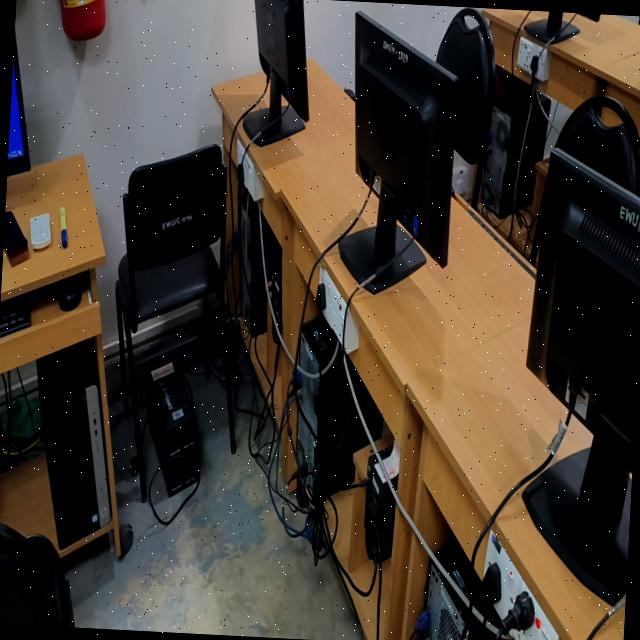Chair: (115, 144, 226, 493), (436, 8, 495, 207), (556, 97, 640, 196), (0, 523, 75, 628)
Cpu: (38, 341, 109, 549), (296, 315, 369, 504), (424, 536, 513, 640), (483, 87, 551, 217), (239, 191, 281, 337), (345, 358, 382, 440)
Fire Extinguisher: (60, 0, 106, 41)
Keyboard: (0, 295, 30, 337)
Monitor: (523, 150, 640, 601), (339, 12, 459, 293), (243, 0, 309, 145), (7, 29, 30, 176), (546, 12, 562, 38)
Mouse: (59, 276, 82, 311)
